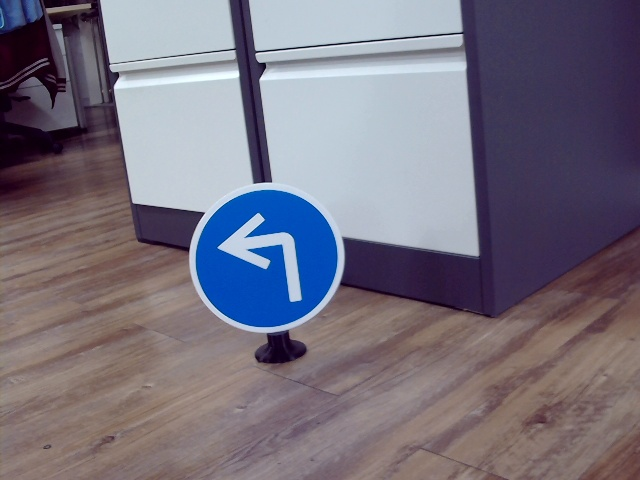turn_left: (215, 213, 306, 307)
